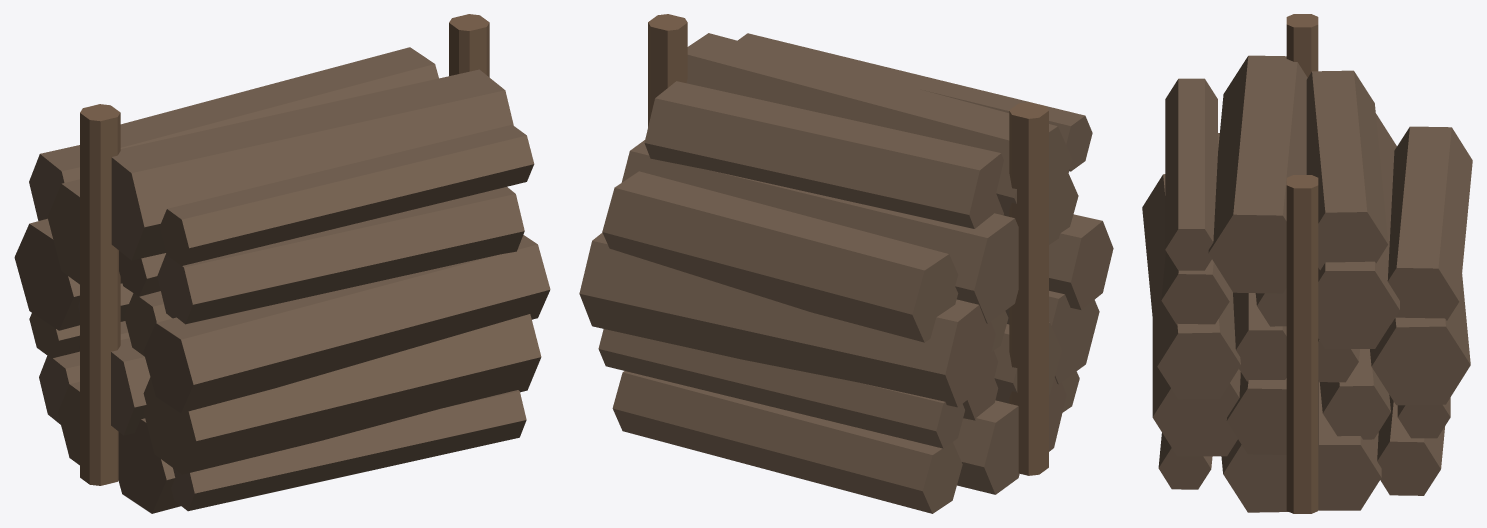
File: firewood_pile.glb
3 views of the same model, side by side, from view 1: azimuth 30°, elevation 25°; view 2: azimuth 150°, elevation 25°; view 3: azimuth 270°, elevation 25° (orthographic). The views are drawn at different scales.
Visible parts, largest first — view 1: firewood_pile; view 2: firewood_pile; view 3: firewood_pile.
Boxes of the visible parts, box(x1,y1,x2,y2) form: firewood_pile: box(14, 14, 550, 513); firewood_pile: box(579, 14, 1113, 513); firewood_pile: box(1142, 14, 1472, 513).
Size of the model in its own units: 1.17 by 1.05 by 0.9382.
